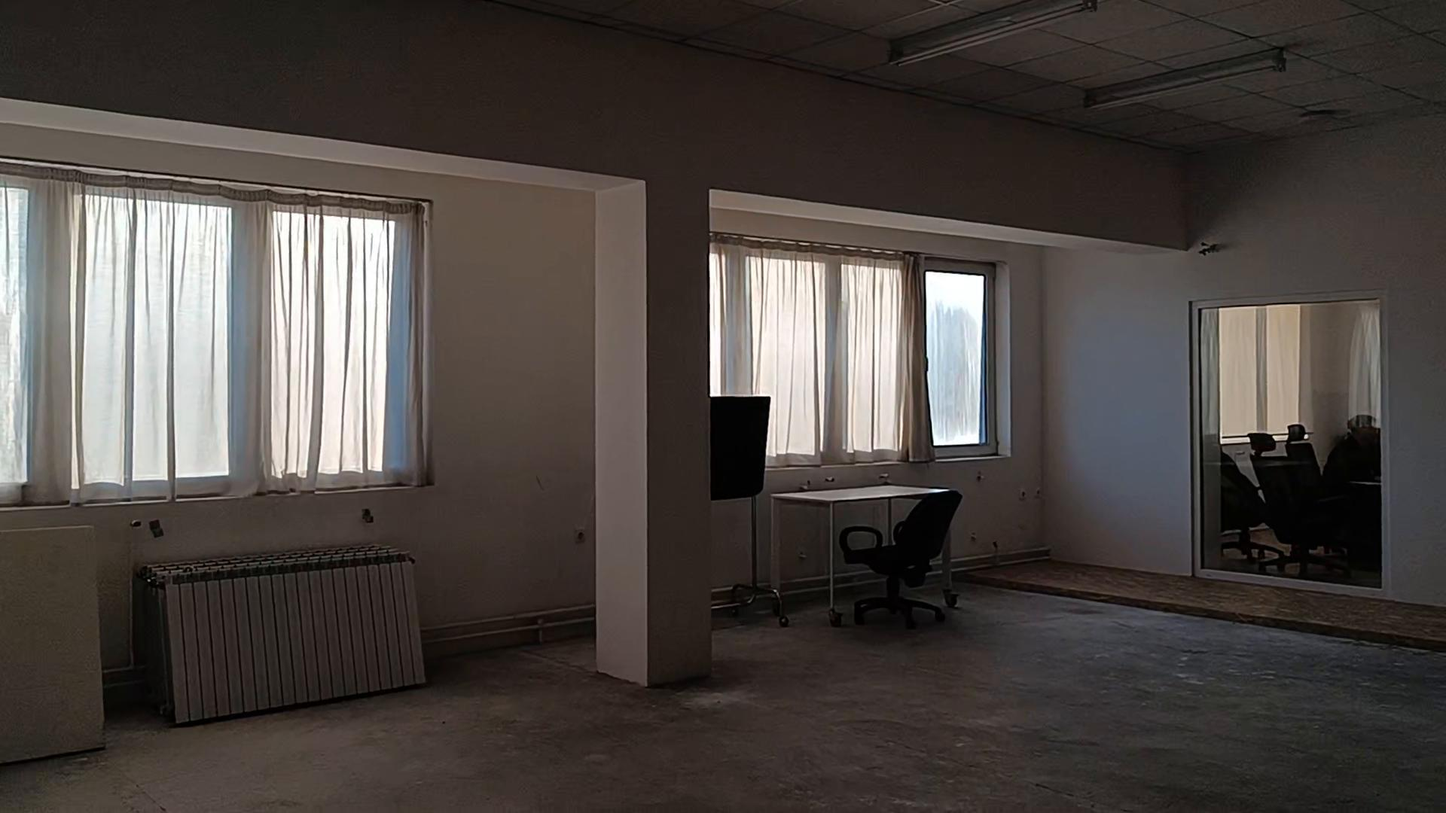ceiling: (487, 0, 1445, 148)
floor: (0, 585, 1445, 812)
wall: (11, 5, 1441, 676)
